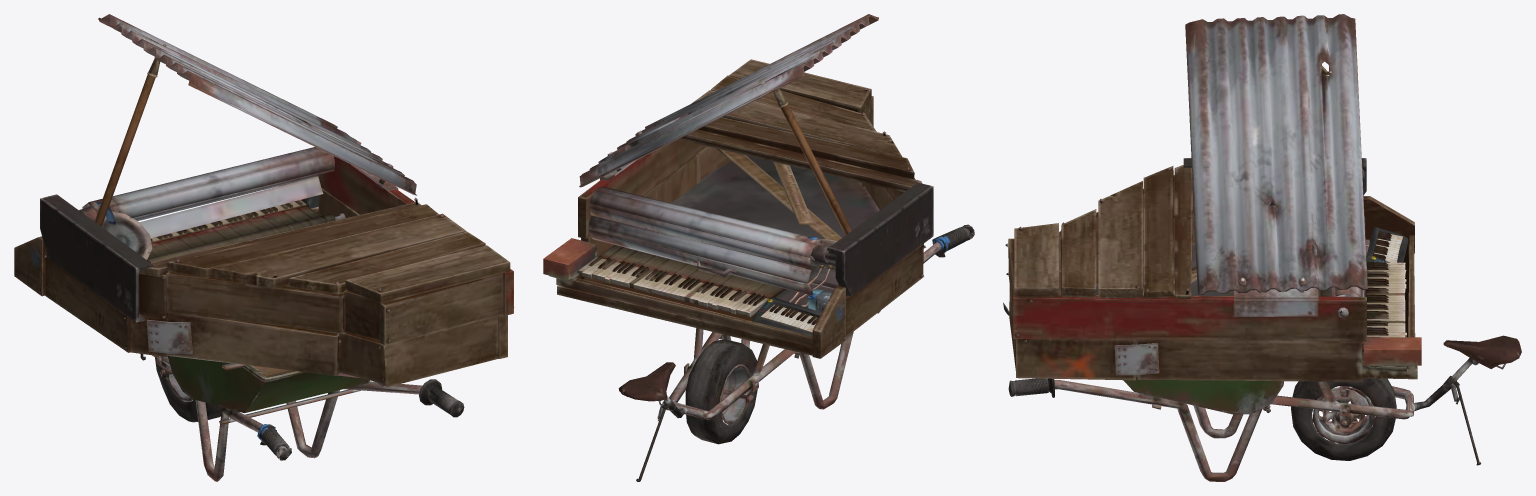
Rendered from piano.deployed.glb.
3 renders of one model, left to right at view 1: azimuth 30°, elevation 25°; view 2: azimuth 150°, elevation 25°; view 3: azimuth 270°, elevation 25°, orthographic. The views are drawn at different scales.
Visible parts, largest first — view 1: piano_LOD0; view 2: piano_LOD0; view 3: piano_LOD0.
Boxes of the visible parts, x1,y1,x2,y2 form: piano_LOD0: (14,14,514,481); piano_LOD0: (543,14,974,481); piano_LOD0: (1003,14,1521,481).
Bounding box in the file's own units: 1.26 × 1.73 × 2.
Materials: 2 (2 with a texture image).
